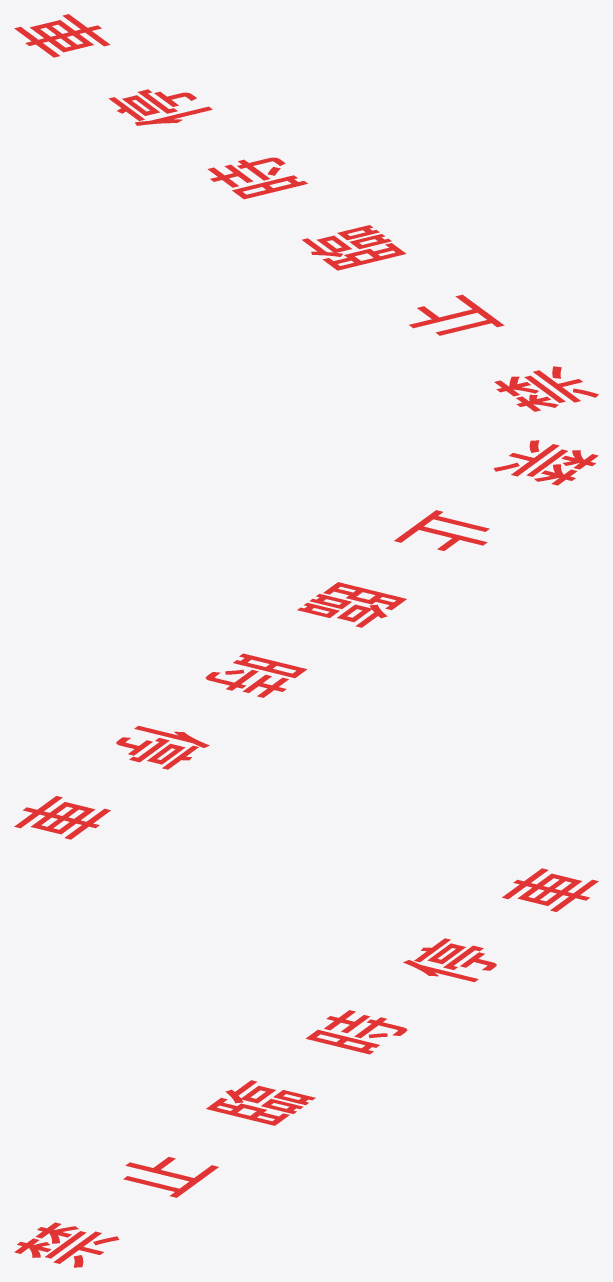
File: 禁止臨時停車.FBX
3 renders of one model, top to bottom at view 1: azimuth 30°, elevation 25°; view 2: azimuth 150°, elevation 25°; view 3: azimuth 330°, elevation 25°, orthographic.
Visible parts, largest first — view 1: Text001; view 2: Text001; view 3: Text001.
Boxes of the visible parts, x1,y1,x2,y2 form: Text001: (14,14,598,411); Text001: (14,440,598,839); Text001: (14,868,598,1267).
Size of the model in its own units: 10.59 by 7.99e-15 by 129.
